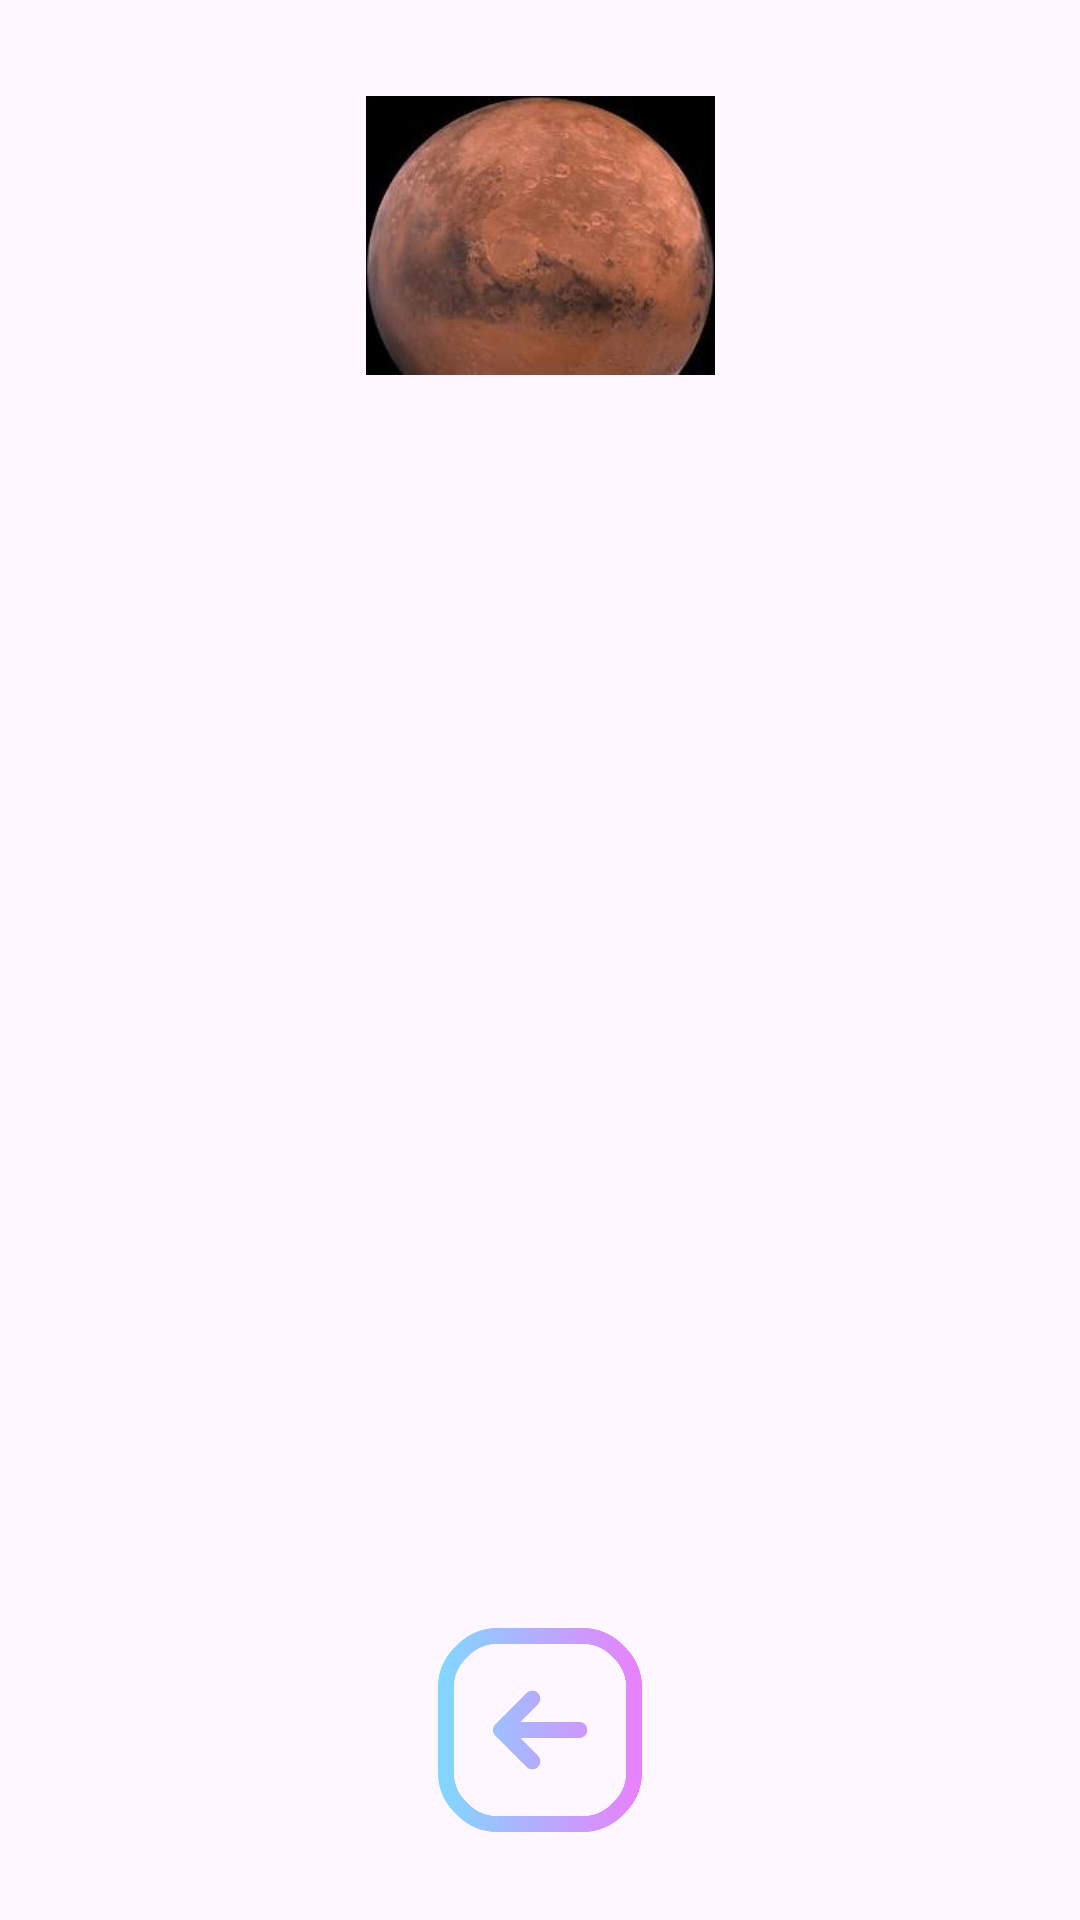

Screen size 1080 x 1920. Icon name, then its center in pixels as (x,y):
marte: (540,235)
seta para esquerda: (540,1730)
